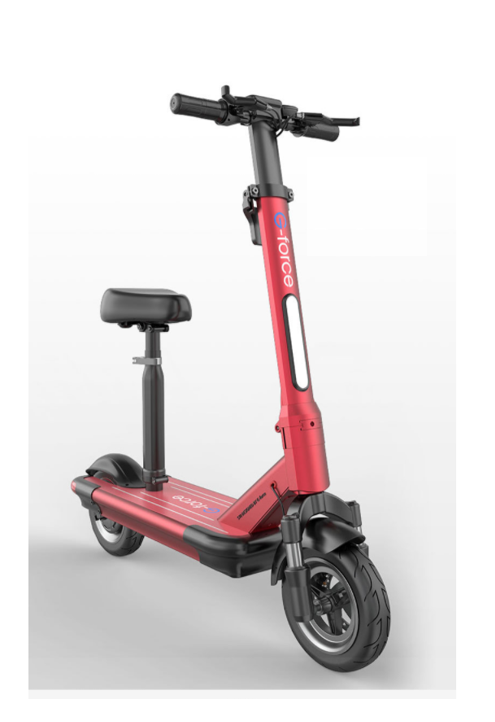scooter: (68, 81, 396, 679)
